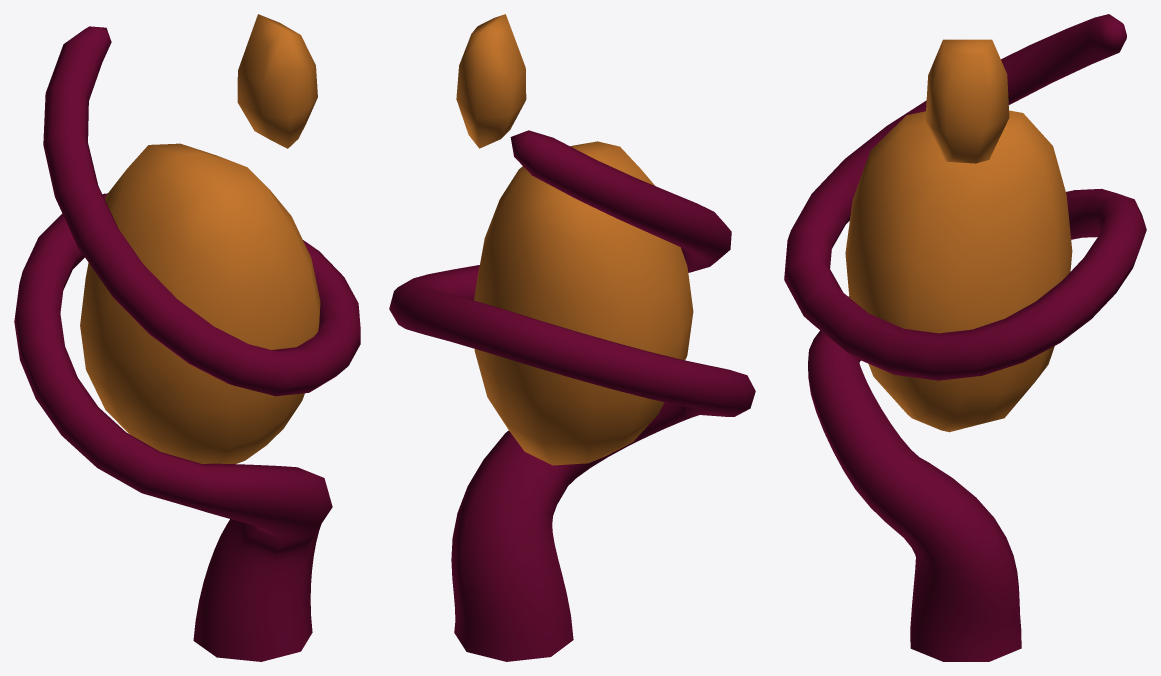
File: tree_lava_3.glb
3 renders of one model, left to right at view 1: azimuth 30°, elevation 25°; view 2: azimuth 150°, elevation 25°; view 3: azimuth 270°, elevation 25°, orthographic.
Visible parts, largest first — view 1: Tree_Lava_3; view 2: Tree_Lava_3; view 3: Tree_Lava_3.
Part boxes in pixels (left/top/right/bottom): Tree_Lava_3: left=14, top=14, right=360, bottom=661; Tree_Lava_3: left=389, top=14, right=755, bottom=661; Tree_Lava_3: left=784, top=14, right=1146, bottom=661.
Bounding box in the file's own units: 1.12 × 2.09 × 1.13.
Materials: 1 (1 with a texture image).
